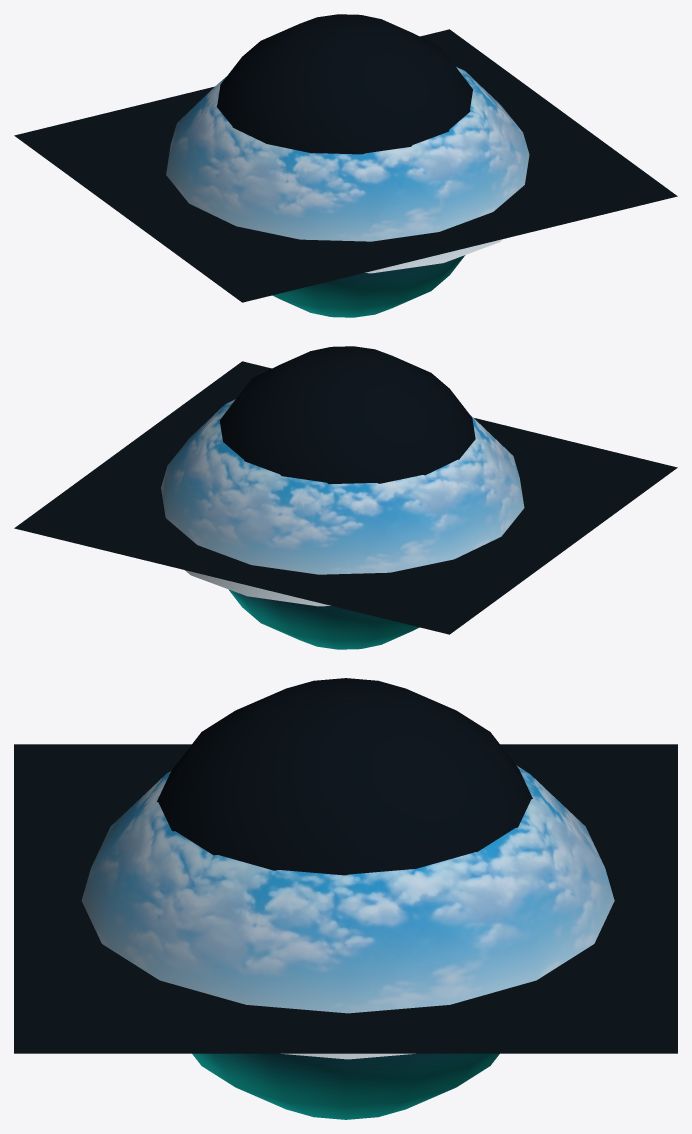
File: BattleArea_0020001.fbx
3 renders of one model, top to bottom at view 1: azimuth 30°, elevation 25°; view 2: azimuth 150°, elevation 25°; view 3: azimuth 270°, elevation 25°, orthographic. The views are drawn at different scales.
Parts seen in each view (by area): view 1: skillbg_02, sky_01_001, skillbg_01; view 2: skillbg_02, sky_01_001, skillbg_01; view 3: skillbg_02, sky_01_001, skillbg_01.
Part boxes in pixels (box(x1,y1,x2,y2)): skillbg_02: box(14, 29, 677, 302); sky_01_001: box(166, 66, 529, 273); skillbg_01: box(216, 14, 472, 317); skillbg_02: box(14, 361, 677, 634); sky_01_001: box(161, 399, 524, 606); skillbg_01: box(219, 346, 475, 649); skillbg_02: box(14, 744, 677, 1053); sky_01_001: box(81, 765, 614, 1059); skillbg_01: box(157, 678, 532, 1119).
Bounding box in the file's own units: 310 × 187 × 281.
